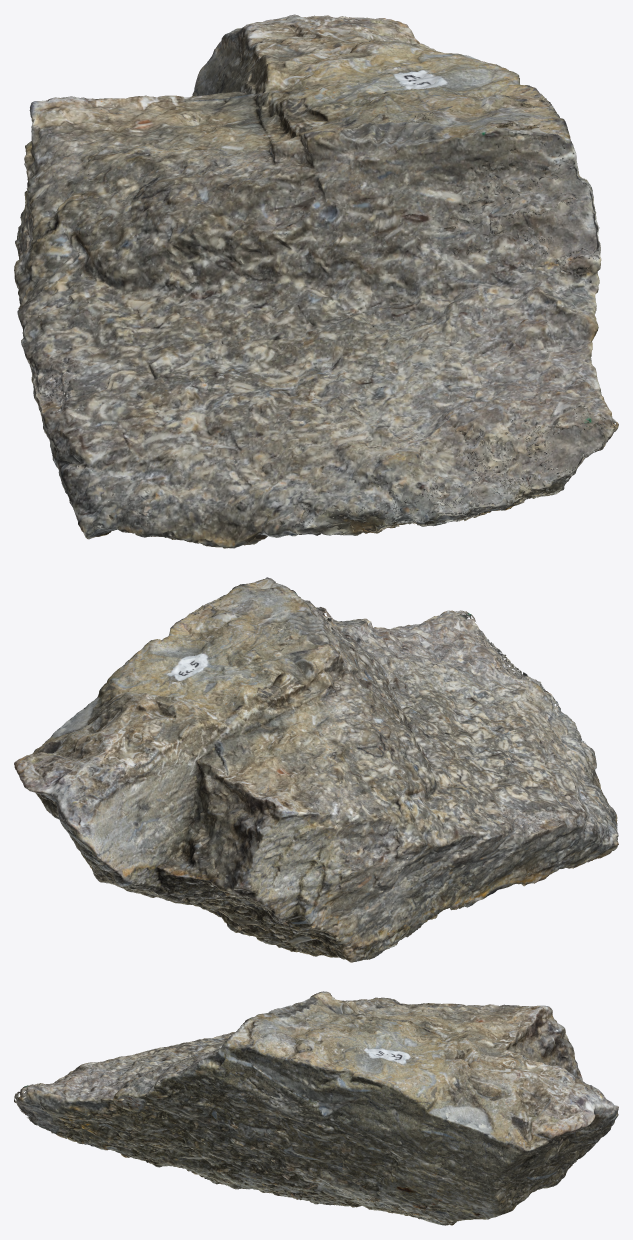
Rendered from sample-10.glb.
3 views of the same model, one above another, from view 1: azimuth 30°, elevation 25°; view 2: azimuth 150°, elevation 25°; view 3: azimuth 270°, elevation 25° (orthographic). The views are drawn at different scales.
Bounding box in the file's own units: 0.1084 × 0.0611 × 0.1478.
Materials: 1 (1 with a texture image).
